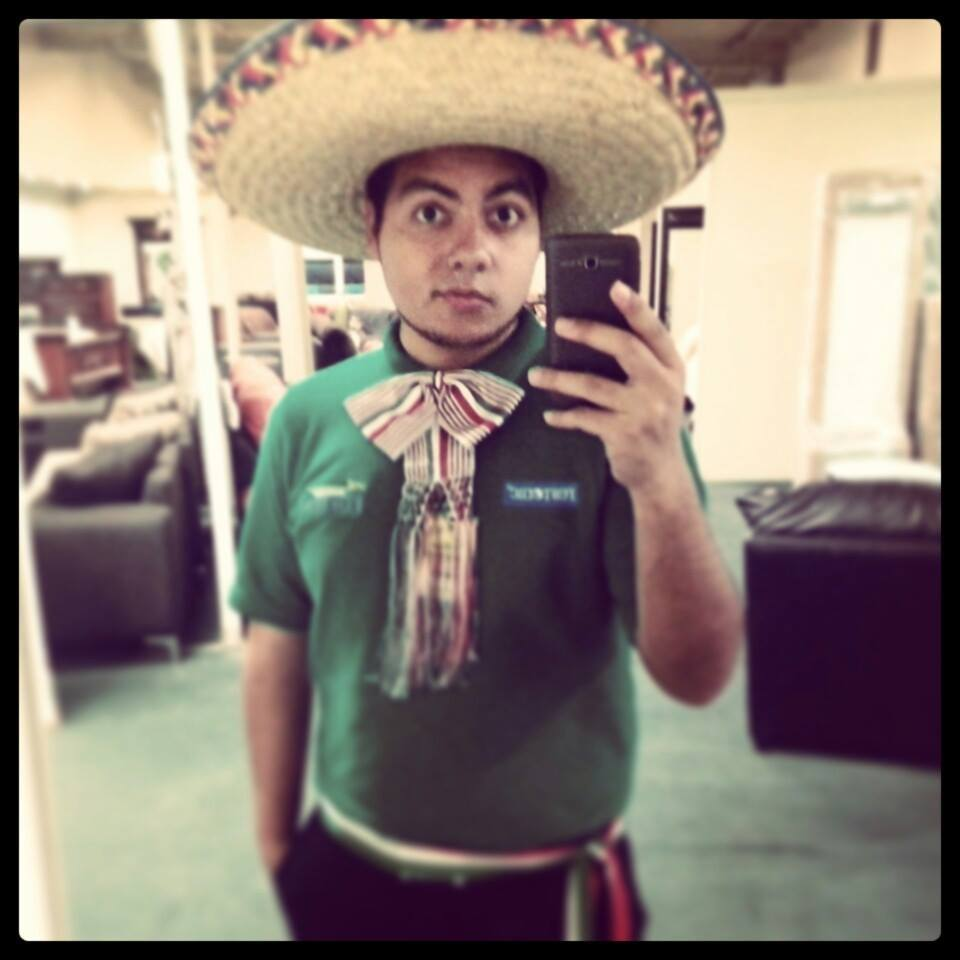Yoshi: (348, 153, 567, 383)
